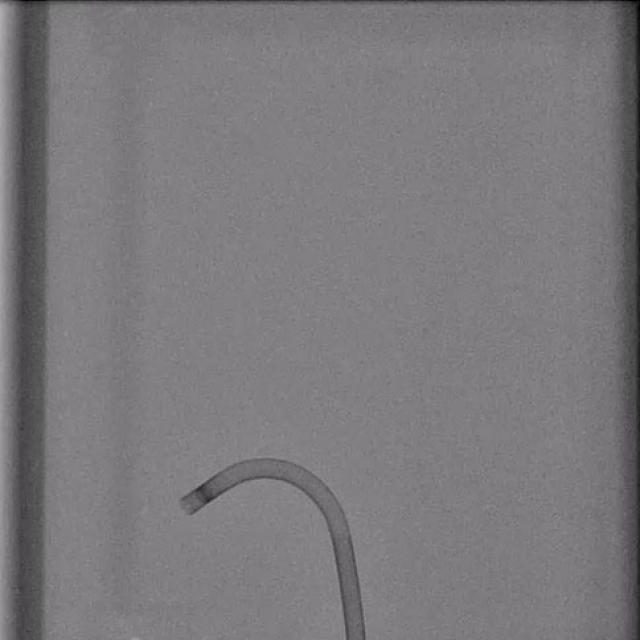bend: (327, 525, 352, 539)
entry: (347, 635, 366, 640)
marker: (194, 484, 215, 505)
tip: (180, 496, 192, 515)
